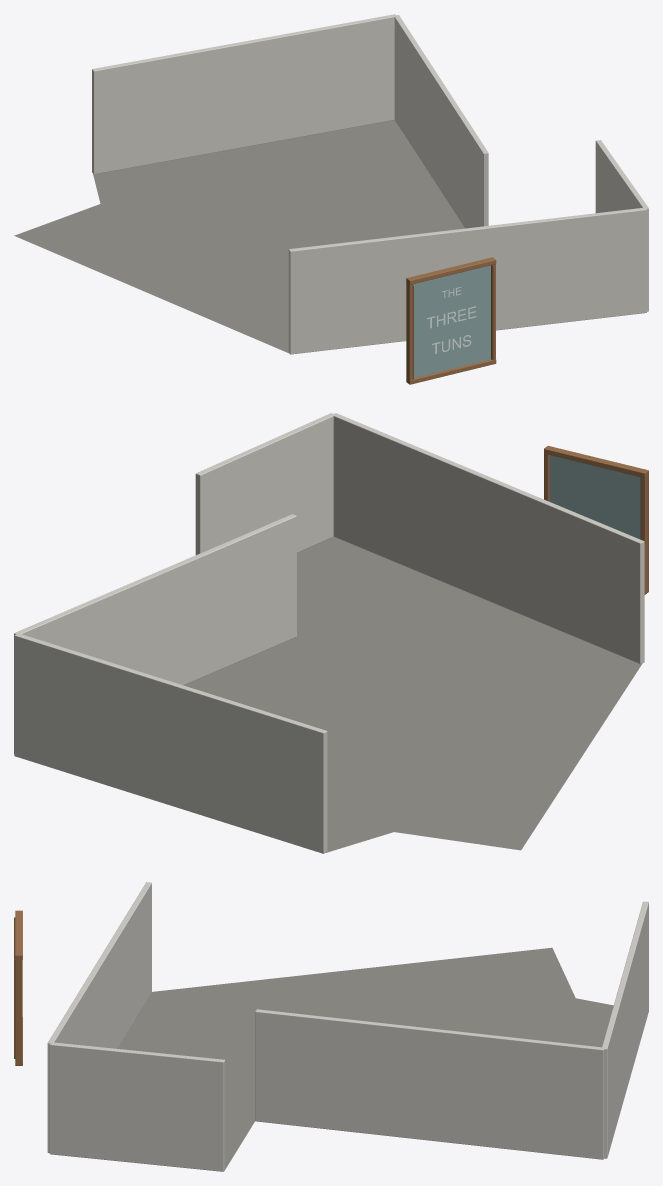
Rendered from saw-three-tuns-interior-ee4bfd3c3197.glb.
3 renders of one model, top to bottom at view 1: azimuth 30°, elevation 25°; view 2: azimuth 150°, elevation 25°; view 3: azimuth 270°, elevation 25°, orthographic. The views are drawn at different scales.
Parts seen in each view (by area): view 1: saw-three-tuns; view 2: saw-three-tuns; view 3: saw-three-tuns.
Boxes of the visible parts, x1,y1,x2,y2 form: saw-three-tuns: [14, 14, 648, 384]; saw-three-tuns: [14, 413, 648, 853]; saw-three-tuns: [14, 882, 648, 1171].
Bounding box in the file's own units: 12.25 × 2.84 × 14.65.
